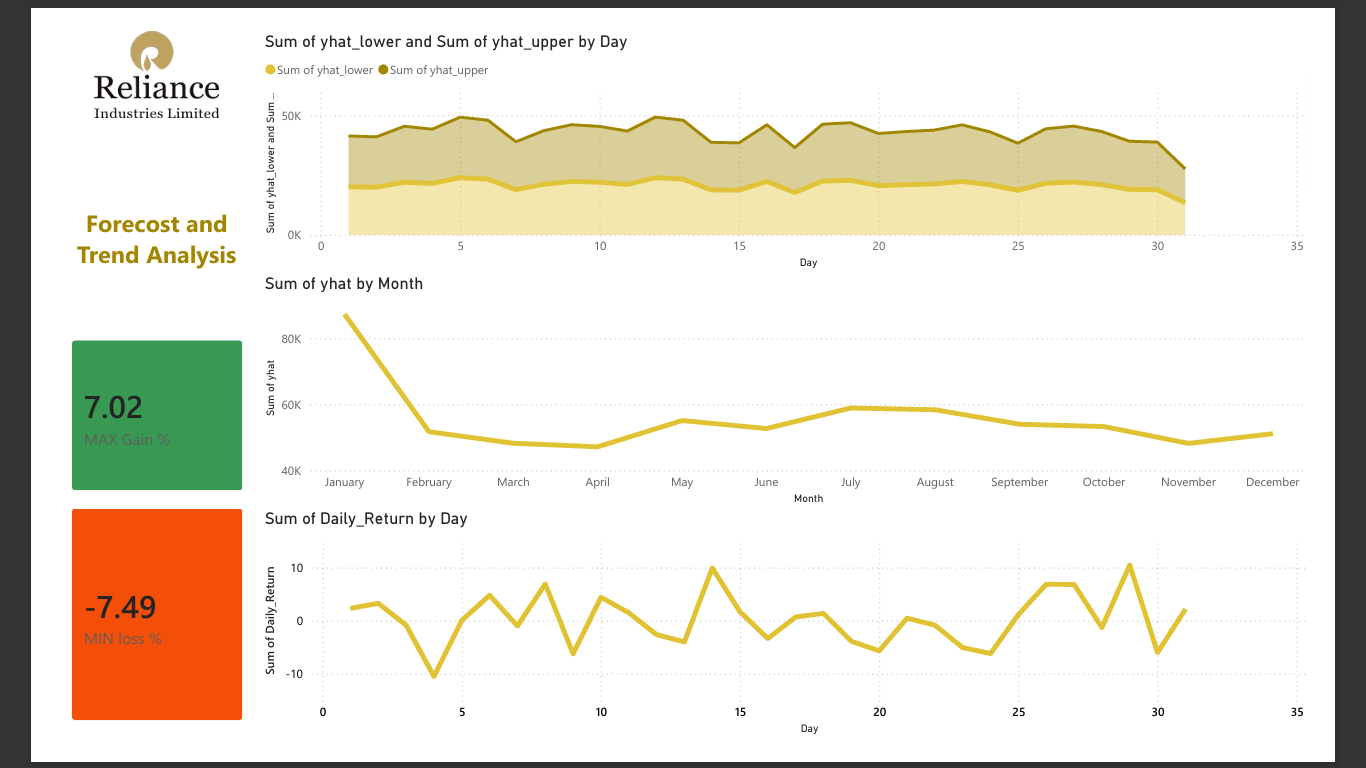

What the dashboard file says about the page in this screenshot:
{"tool":"powerbi","page":{"name":"Page 2","canvas":[1280,720],"ordinal":1},"visuals":[{"type":"lineChart","fields":{"Category":["reliance_final.Date.Variation.Date Hierarchy.Year","reliance_final.Date.Variation.Date Hierarchy.Quarter","reliance_final.Date.Variation.Date Hierarchy.Month","reliance_final.Date.Variation.Date Hierarchy.Day"],"Y":["Sum(reliance_final.Daily_Return)"]},"box":[209.2,485.8,1070.8,234],"z":0},{"type":"lineChart","fields":{"Category":["reliance_forecast.ds.Variation.Date Hierarchy.Year","reliance_forecast.ds.Variation.Date Hierarchy.Quarter","reliance_forecast.ds.Variation.Date Hierarchy.Month","reliance_forecast.ds.Variation.Date Hierarchy.Day"],"Y":["Sum(reliance_forecast.yhat)"]},"box":[209.2,246.4,1070.8,239.5],"z":1000},{"type":"stackedAreaChart","fields":{"Category":["reliance_forecast.ds.Variation.Date Hierarchy.Year","reliance_forecast.ds.Variation.Date Hierarchy.Quarter","reliance_forecast.ds.Variation.Date Hierarchy.Month","reliance_forecast.ds.Variation.Date Hierarchy.Day"],"Y":["Sum(reliance_forecast.yhat_lower)","Sum(reliance_forecast.yhat_upper)"]},"box":[209.2,0,1070.8,246.4],"z":2000},{"type":"cardVisual","fields":{"Data":["reliance_final.MIN loss %"]},"box":[0,468,209.2,251.9],"z":3000},{"type":"cardVisual","fields":{"Data":["reliance_final.MAX Gain %"]},"box":[0,297.3,209.2,188.6],"z":4000},{"type":"shape","box":[6.9,123.9,194.1,173.4],"z":5000},{"type":"image","box":[0,0,209.2,88.1],"z":6000}]}

Visuals, with their boxes in screenshot pixels (x1, y1, x2, y2), scaled from the page's 1280x720 canvas onto the 1366x768 screenshot:
lineChart - reliance_final.Date.Variation.Date Hierarchy.Year x reliance_final.Date.Variation.Date Hierarchy.Quarter: left=223, top=518, right=1365, bottom=767
lineChart - reliance_forecast.ds.Variation.Date Hierarchy.Year x reliance_forecast.ds.Variation.Date Hierarchy.Quarter: left=223, top=263, right=1365, bottom=518
stackedAreaChart - reliance_forecast.ds.Variation.Date Hierarchy.Year x reliance_forecast.ds.Variation.Date Hierarchy.Quarter: left=223, top=0, right=1365, bottom=263
cardVisual - reliance_final.MIN loss %: left=0, top=499, right=223, bottom=767
cardVisual - reliance_final.MAX Gain %: left=0, top=317, right=223, bottom=518
shape: left=7, top=132, right=215, bottom=317
image: left=0, top=0, right=223, bottom=94
